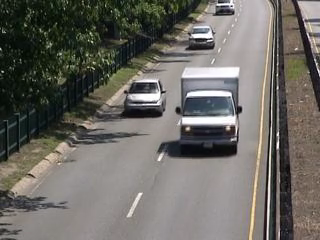car: (124, 78, 168, 117), (185, 24, 218, 51), (213, 1, 236, 17)
truck: (176, 67, 244, 159)
